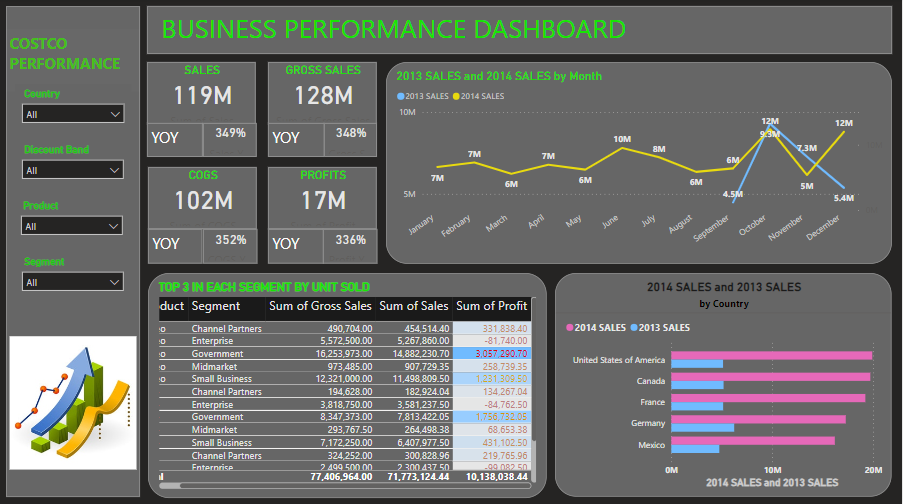

The dashboard page shown, as its layout file describes it:
{"tool":"powerbi","page":{"name":"Page 2","canvas":[1280,720],"ordinal":0},"visuals":[{"type":"shape","box":[9.6,11,189.7,695.7],"z":0},{"type":"card","title":"GROSS SALES","fields":{"Values":["Sum(financials.Gross Sales)"]},"box":[381.2,90.5,154.5,87.9],"z":0,"group":"g1"},{"type":"card","title":"COGS","fields":{"Values":["Sum(financials.COGS)"]},"box":[211.6,240,154.5,87.9],"z":0,"group":"g4"},{"type":"card","title":"PROFITS","fields":{"Values":["Sum(financials.Profit)"]},"box":[380.6,240,154.5,87.9],"z":0,"group":"g3"},{"type":"textbox","box":[209.8,11.3,1055.9,68],"z":1000},{"type":"card","title":"SALES","fields":{"Values":["Sum(financials.Sales)"]},"box":[209.8,90.7,154.5,87.9],"z":1000,"group":"g2"},{"type":"card","title":"SALES","fields":{"Values":["financials.Gross Sales YoY%"]},"box":[460.6,176.8,74.8,47.7],"z":1000,"group":"g1"},{"type":"textbox","box":[211.6,327.6,77.4,49],"z":1000,"group":"g4"},{"type":"textbox","box":[380.7,327.6,78.7,49],"z":1000,"group":"g3"},{"type":"lineChart","fields":{"Category":["financials.Date.Variation.Date Hierarchy.Month"],"Y":["financials.2013 SALES"],"Y2":["financials.2014 SALES"]},"box":[548.4,90.3,717.4,286.5],"z":2000},{"type":"textbox","box":[380.6,176.8,80,47.7],"z":2000,"group":"g1"},{"type":"card","title":"SALES","fields":{"Values":["financials.COGS YoY%"]},"box":[289,327.6,77.4,49],"z":2000,"group":"g4"},{"type":"card","title":"SALES","fields":{"Values":["financials.Profit YoY%"]},"box":[458.1,327.6,77.4,49],"z":2000,"group":"g3"},{"type":"textbox","box":[210.4,176.8,78.7,47.7],"z":3000,"group":"g2"},{"type":"tableEx","title":"TOP 3 IN EACH SEGMENT BY UNIT SOLD","fields":{"Values":["financials.Product","financials.Segment","Sum(financials.Gross Sales)","Sum(financials.Sales)","Sum(financials.Profit)"]},"box":[211.6,389.7,565.2,318.7],"z":3000},{"type":"card","title":"SALES","fields":{"Values":["financials.Sales YoY%"]},"box":[289.1,176.8,76.1,47.7],"z":4000,"group":"g2"},{"type":"clusteredBarChart","fields":{"Category":["financials.Country"],"Y":["financials.2014 SALES","financials.2013 SALES"]},"box":[788.4,389.7,477.4,317.4],"z":4000},{"type":"textbox","box":[10.3,44.6,190.5,89.2],"z":5000},{"type":"slicer","fields":{"Values":["financials.Country"]},"box":[23.2,122.6,165.2,68.4],"z":6000},{"type":"slicer","fields":{"Values":["financials.Discount Band"]},"box":[23.2,201.3,163.9,68.4],"z":7000},{"type":"slicer","fields":{"Values":["financials.Product"]},"box":[21.9,280,163.9,80],"z":8000},{"type":"slicer","fields":{"Values":["financials.Segment"]},"box":[23.2,360,163.9,78.7],"z":9000},{"type":"group","id":"g1","title":"Group 3","box":[380.6,90.5,155.1,134.1],"z":10000},{"type":"group","id":"g2","title":"Group 4","box":[209.8,90.7,155.4,133.8],"z":11000},{"type":"group","id":"g3","title":"Group 1","box":[380.6,240,154.8,136.8],"z":12000},{"type":"group","id":"g4","title":"Group 2","box":[211.6,240,154.8,136.8],"z":13000},{"type":"image","box":[9.9,439.4,189.9,267.9],"z":14000}]}

Visuals, with their boxes in screenshot pixels (x1, y1, x2, y2), scaled from the page's 1280x720 canvas onto the 903x504 screenshot:
shape: rect(7, 8, 141, 495)
"GROSS SALES" card: rect(269, 63, 378, 125)
"COGS" card: rect(149, 168, 258, 230)
"PROFITS" card: rect(269, 168, 377, 230)
textbox: rect(148, 8, 893, 56)
"SALES" card: rect(148, 63, 257, 125)
"SALES" card: rect(325, 124, 378, 157)
textbox: rect(149, 229, 204, 264)
textbox: rect(269, 229, 324, 264)
lineChart - financials.Date.Variation.Date Hierarchy.Month x financials.2013 SALES: rect(387, 63, 893, 264)
textbox: rect(269, 124, 325, 157)
"SALES" card: rect(204, 229, 258, 264)
"SALES" card: rect(323, 229, 378, 264)
textbox: rect(148, 124, 204, 157)
"TOP 3 IN EACH SEGMENT BY UNIT SOLD" tableEx: rect(149, 273, 548, 496)
"SALES" card: rect(204, 124, 258, 157)
clusteredBarChart - financials.Country x financials.2014 SALES: rect(556, 273, 893, 495)
textbox: rect(7, 31, 142, 94)
slicer - financials.Country: rect(16, 86, 133, 134)
slicer - financials.Discount Band: rect(16, 141, 132, 189)
slicer - financials.Product: rect(15, 196, 131, 252)
slicer - financials.Segment: rect(16, 252, 132, 307)
"Group 3" group: rect(269, 63, 378, 157)
"Group 4" group: rect(148, 63, 258, 157)
"Group 1" group: rect(269, 168, 378, 264)
"Group 2" group: rect(149, 168, 258, 264)
image: rect(7, 308, 141, 495)
